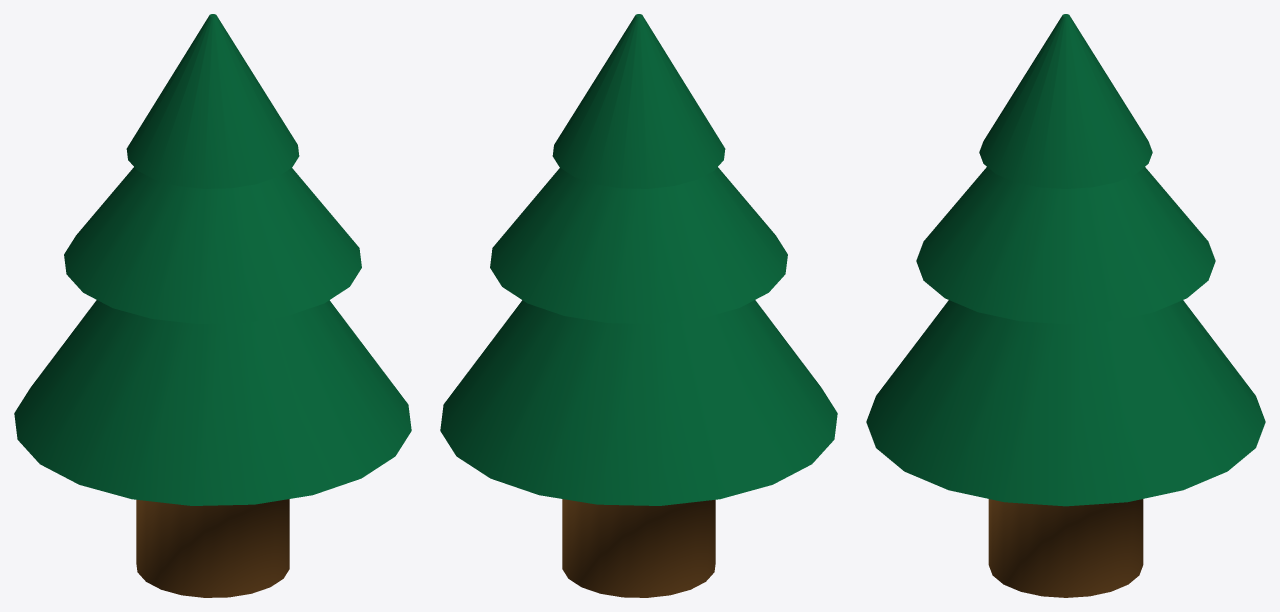
Rendered from treev1.fbx.
3 views of the same model, side by side, from view 1: azimuth 30°, elevation 25°; view 2: azimuth 150°, elevation 25°; view 3: azimuth 270°, elevation 25° (orthographic).
Parts seen in each view (by area): view 1: pCylinder1; view 2: pCylinder1; view 3: pCylinder1.
Part boxes in pixels (x1,y1,x2,y2): pCylinder1: [14, 14, 411, 597]; pCylinder1: [440, 14, 837, 597]; pCylinder1: [866, 14, 1265, 597].
Size of the model in its own units: 5.18 by 7.86 by 5.18.
